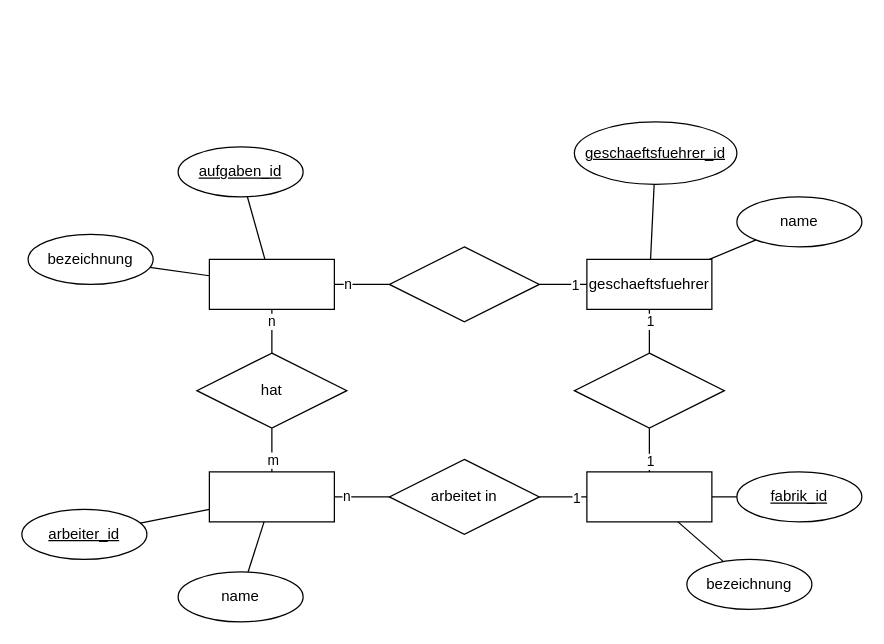
The diagram is 884 pixels wide and 644 high, and some of its shapes have lost their labels. Each missing label, with the box of its shape:
arbeiter: (208, 471, 334, 522)
aufgabe: (208, 258, 334, 309)
erstellt: (388, 246, 539, 322)
fabrik: (586, 471, 712, 522)
leitet: (573, 352, 724, 428)
